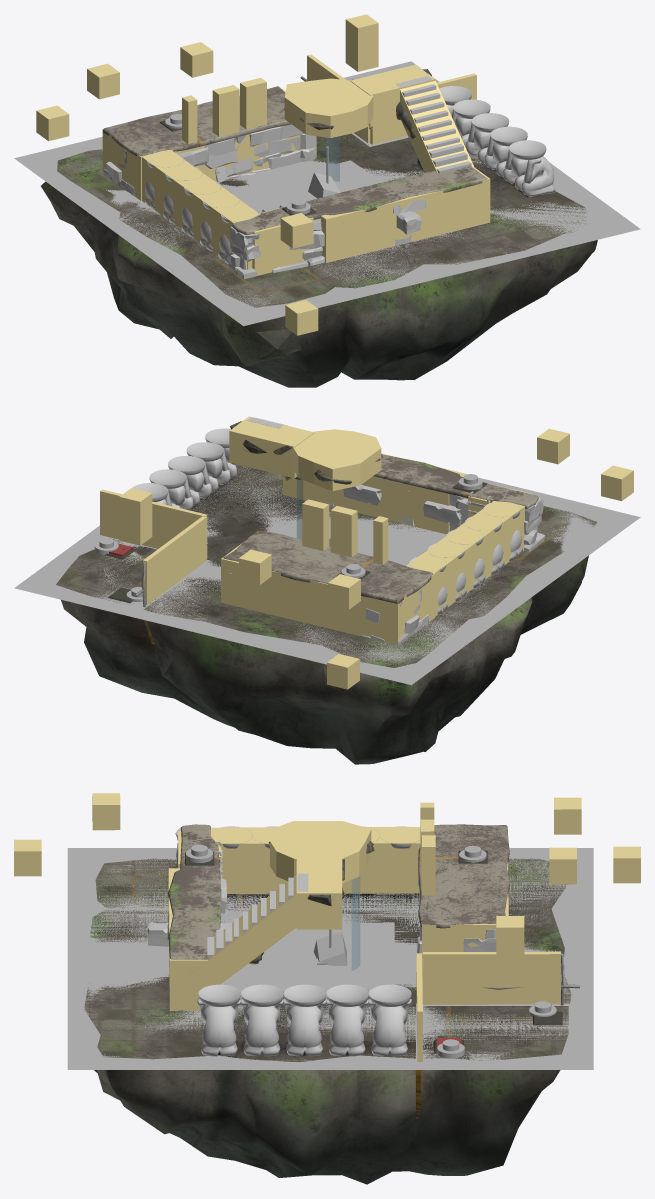
Rendered from stage07 (1).fbx.
3 views of the same model, one above another, from view 1: azimuth 30°, elevation 25°; view 2: azimuth 150°, elevation 25°; view 3: azimuth 270°, elevation 25° (orthographic). The views are drawn at different scales.
Parts seen in each view (by area): view 1: stage07_stage07_01, pasted__stage07_demo, stage07_stage07_02, pasted__stage07_demo_89, stage07_sozai02, stage7_pCylinder68, stage7_pCube136, stage7_pCube137, stage07_sozai02_01, pasted__stage07_demo_45, stage07_sozai02_36, pasted__stage07_demo_50 (+11 smaller); view 2: stage07_stage07_01, pasted__stage07_demo, stage07_stage07_02, stage7_pCylinder68, pasted__stage07_demo_89, stage7_pCube137, pasted__stage07_demo_87, pasted__stage07_demo_50, stage07_sozai02, pasted__stage07_demo_32, pasted__stage07_demo_58, stage07_sozai02_33 (+4 smaller); view 3: stage07_stage07_01, pasted__stage07_demo, stage07_stage07_02, pasted__stage07_demo_87, stage7_pCylinder68, stage7_pCube136, stage7_pCube137, stage07_sozai02_24, stage07_sozai02_36, stage07_sozai02_33, stage07_sozai02_30, stage07_sozai02_27 (+12 smaller).
Part boxes in pixels (x1,y1,x2,y2): stage07_stage07_01: (41, 133, 597, 387); pasted__stage07_demo: (14, 14, 640, 335); stage07_stage07_02: (102, 69, 487, 234); pasted__stage07_demo_89: (320, 166, 490, 262); stage07_sozai02: (118, 133, 426, 272); stage7_pCylinder68: (284, 78, 373, 137); stage7_pCube136: (400, 80, 473, 172); stage7_pCube137: (350, 64, 435, 126); stage07_sozai02_01: (396, 76, 459, 149); pasted__stage07_demo_45: (252, 217, 313, 275); stage07_sozai02_36: (511, 156, 555, 197); pasted__stage07_demo_50: (370, 73, 476, 144); stage07_stage07_01: (56, 464, 597, 764); pasted__stage07_demo: (14, 464, 640, 685); stage07_stage07_02: (223, 421, 538, 603); stage7_pCylinder68: (292, 429, 381, 491); pasted__stage07_demo_89: (283, 453, 467, 534); stage7_pCube137: (229, 416, 314, 478); pasted__stage07_demo_87: (143, 516, 206, 605); pasted__stage07_demo_50: (100, 489, 207, 558); stage07_sozai02: (229, 474, 537, 641); pasted__stage07_demo_32: (537, 428, 569, 464); pasted__stage07_demo_58: (327, 654, 359, 689); stage07_sozai02_33: (198, 458, 222, 498); stage07_stage07_01: (84, 858, 571, 1184); pasted__stage07_demo: (14, 797, 593, 1069); stage07_stage07_02: (168, 824, 509, 965); pasted__stage07_demo_87: (422, 951, 560, 1004); stage7_pCylinder68: (270, 821, 371, 883); stage7_pCube136: (187, 875, 296, 989); stage7_pCube137: (296, 857, 342, 929); stage07_sozai02_24: (367, 998, 411, 1056); stage07_sozai02_36: (197, 998, 241, 1056); stage07_sozai02_33: (240, 998, 283, 1056); stage07_sozai02_30: (282, 998, 326, 1056); stage07_sozai02_27: (325, 998, 369, 1056).
Bounding box in the file's own units: 19.54 × 10.78 × 22.65.
